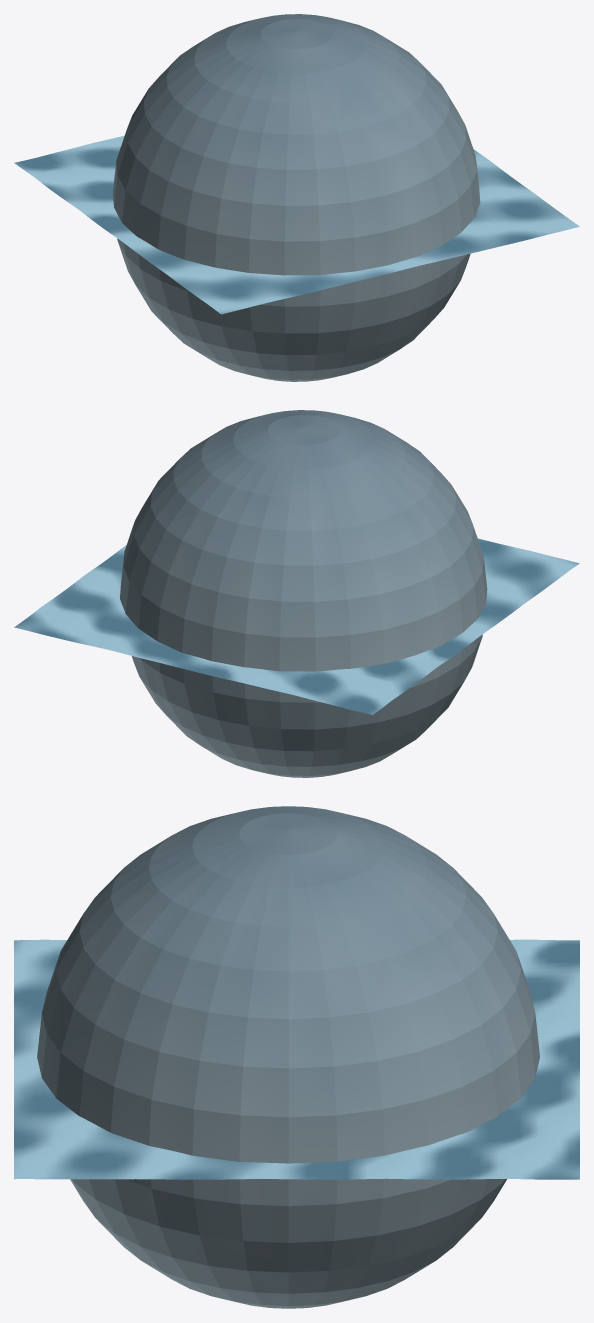
File: retreat_expanded_p7_runtime.glb
3 renders of one model, top to bottom at view 1: azimuth 30°, elevation 25°; view 2: azimuth 150°, elevation 25°; view 3: azimuth 270°, elevation 25°, orthographic. The views are drawn at different scales.
Parts seen in each view (by area): view 1: P7_Maritime_Sky_Dome, P7_Extended_Existing_Sea; view 2: P7_Maritime_Sky_Dome, P7_Extended_Existing_Sea; view 3: P7_Maritime_Sky_Dome, P7_Extended_Existing_Sea.
Boxes of the visible parts, x1=… form: P7_Maritime_Sky_Dome: x1=113, y1=14, x2=480, y2=381; P7_Extended_Existing_Sea: x1=14, y1=135, x2=579, y2=314; P7_Maritime_Sky_Dome: x1=120, y1=410, x2=487, y2=777; P7_Extended_Existing_Sea: x1=14, y1=538, x2=579, y2=714; P7_Maritime_Sky_Dome: x1=37, y1=806, x2=539, y2=1308; P7_Extended_Existing_Sea: x1=14, y1=939, x2=579, y2=1179.
Size of the model in its own units: 1080 by 960 by 1080.
